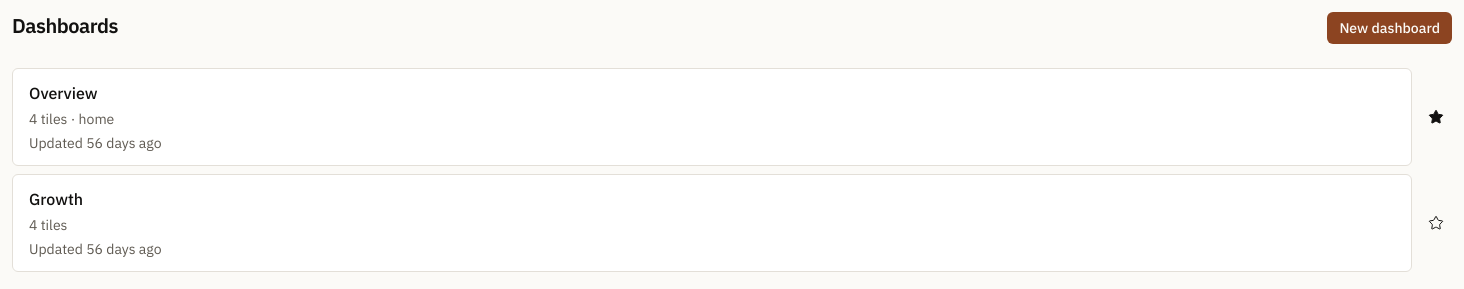
Test: Dashboards — the home star › clears the home dashboard when its filled star is clicked
The image size is (1464, 289).
Click the button named "\"Overview\" is the home dashboard — click to unset" at (1436, 117), box 1420,101 -> 1452,133
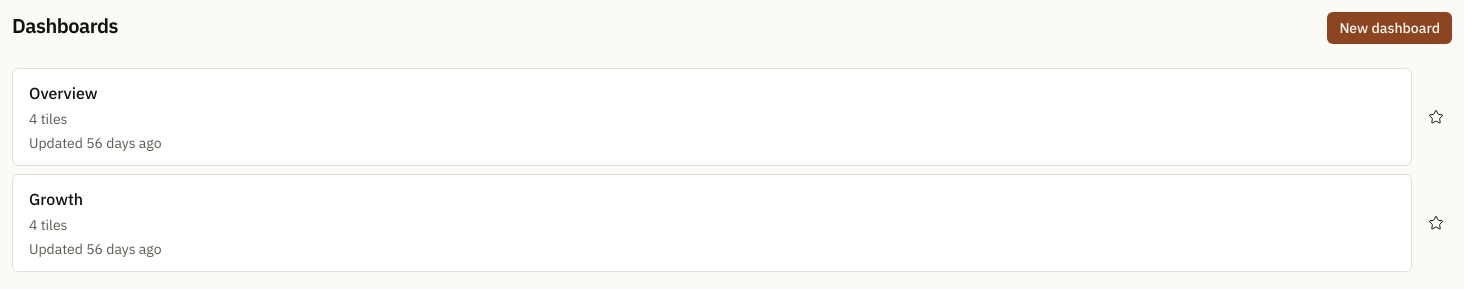
Expected: the button named "Set \"Growth\" as home dashboard" is shown, 1420,207 -> 1452,239
Result: the button named "Set \"Overview\" as home dashboard" is shown at 1420,101 -> 1452,133
